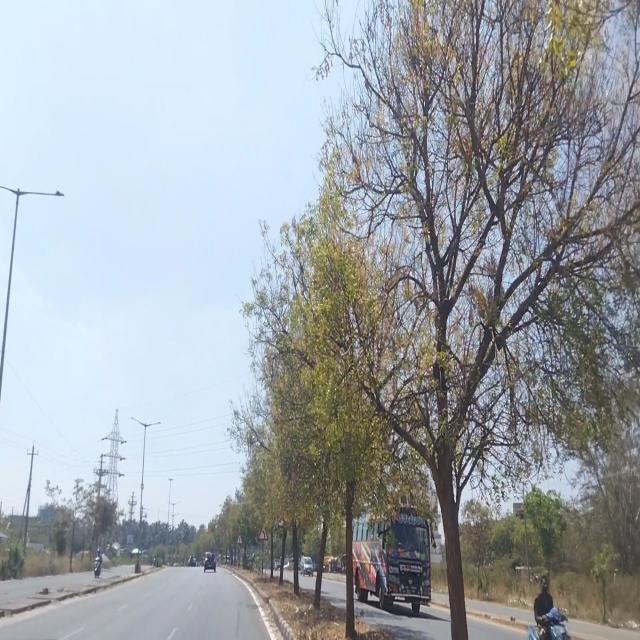bien_cam: (258, 523, 268, 542), (236, 533, 243, 544)
